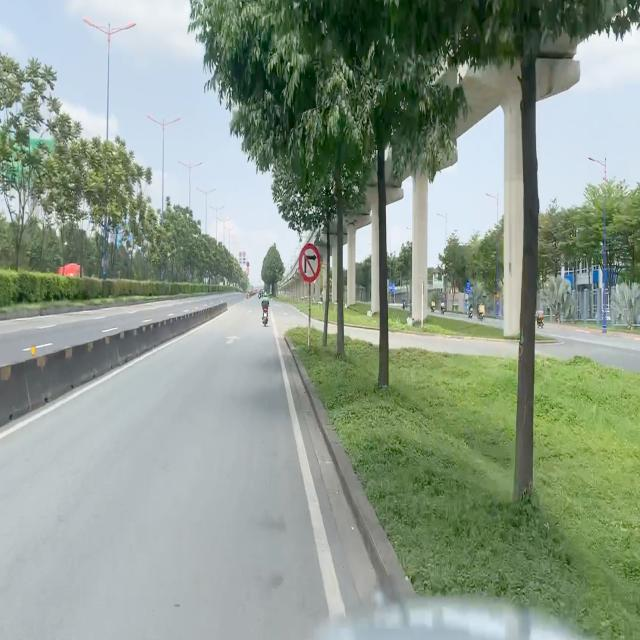Cam re phai: (298, 243, 320, 283)
